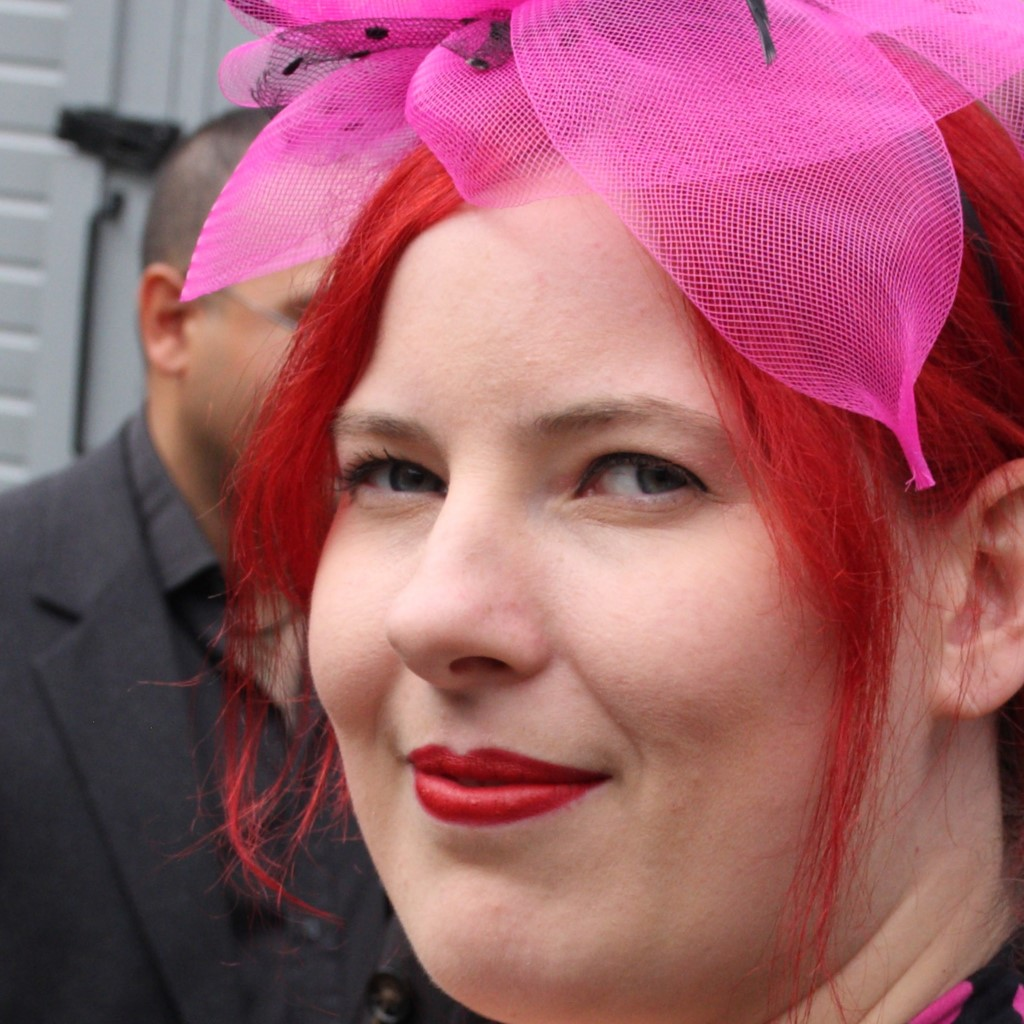sin_mascara: (266, 172, 956, 1024)
